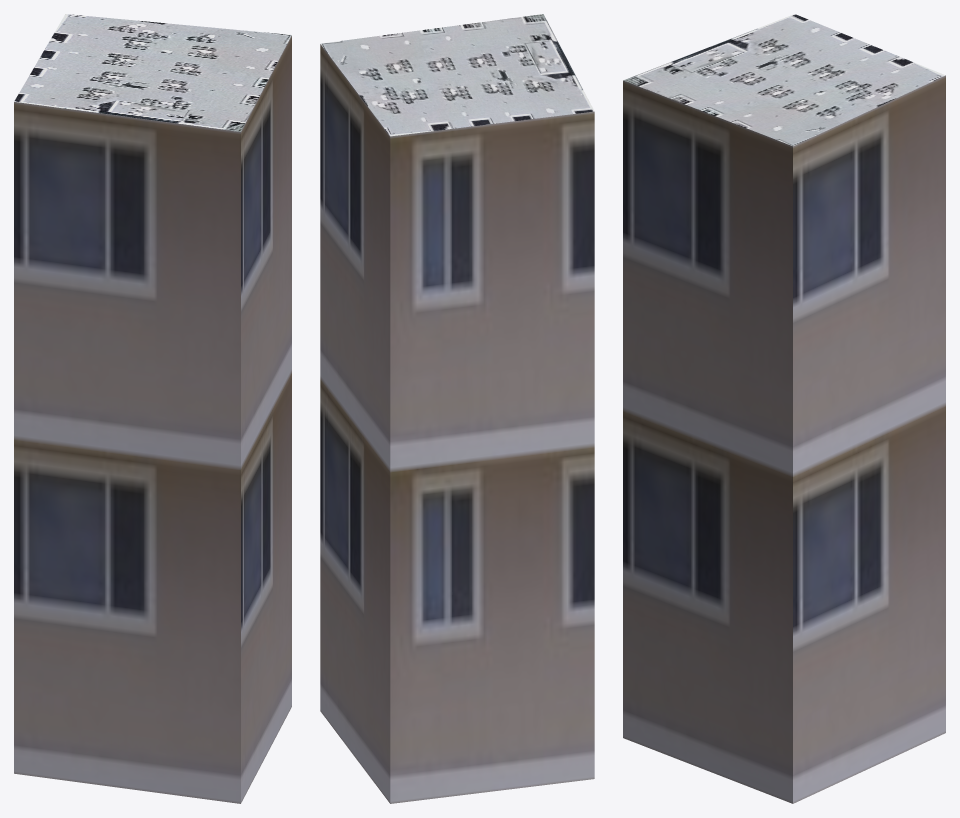
The model's file is ResTex__3352.fbx.
3 views of the same model, side by side, from view 1: azimuth 30°, elevation 25°; view 2: azimuth 150°, elevation 25°; view 3: azimuth 270°, elevation 25° (orthographic). The views are drawn at different scales.
Parts seen in each view (by area): view 1: CityEngineMaterial_21_m, CityEngineMaterial_2_m; view 2: CityEngineMaterial_21_m, CityEngineMaterial_2_m; view 3: CityEngineMaterial_21_m, CityEngineMaterial_2_m.
Part boxes in pixels (bbox=[...]): CityEngineMaterial_21_m: bbox=[14, 35, 291, 803]; CityEngineMaterial_2_m: bbox=[14, 14, 291, 131]; CityEngineMaterial_21_m: bbox=[320, 44, 594, 803]; CityEngineMaterial_2_m: bbox=[320, 14, 594, 136]; CityEngineMaterial_21_m: bbox=[623, 75, 945, 803]; CityEngineMaterial_2_m: bbox=[623, 14, 945, 145].
Size of the model in its own units: 2.59 by 6 by 2.67.
Materials: 2 (2 with a texture image).
